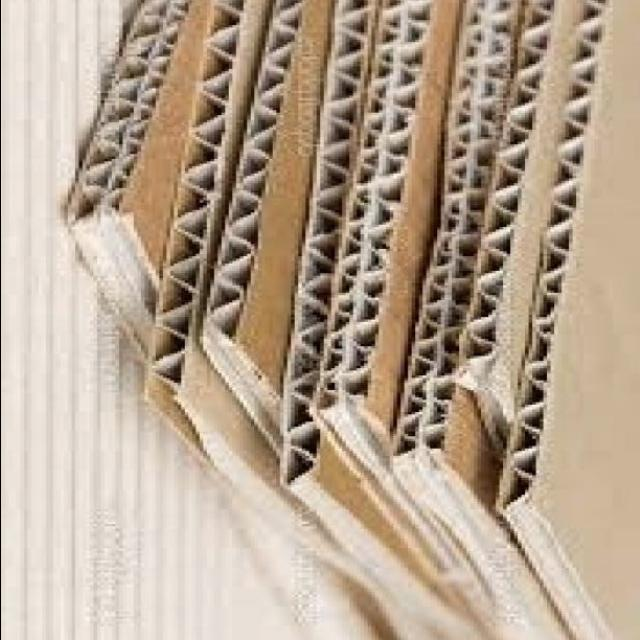cardboard paper: (71, 0, 640, 640)
